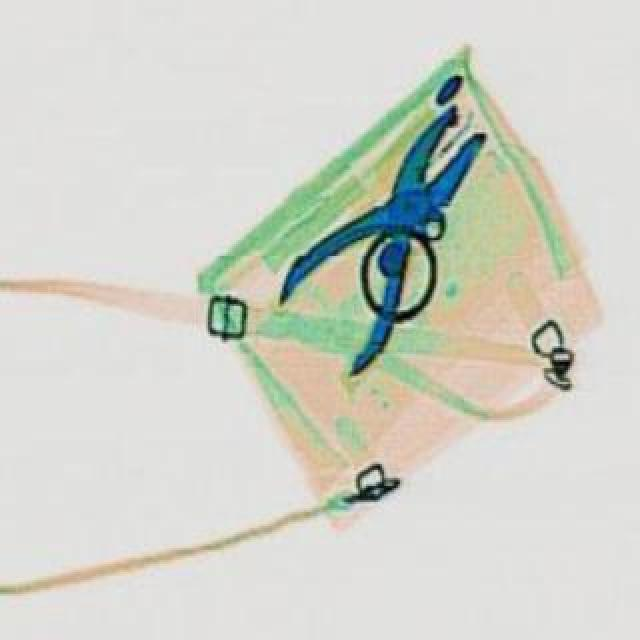wrench: (248, 78, 528, 378)
